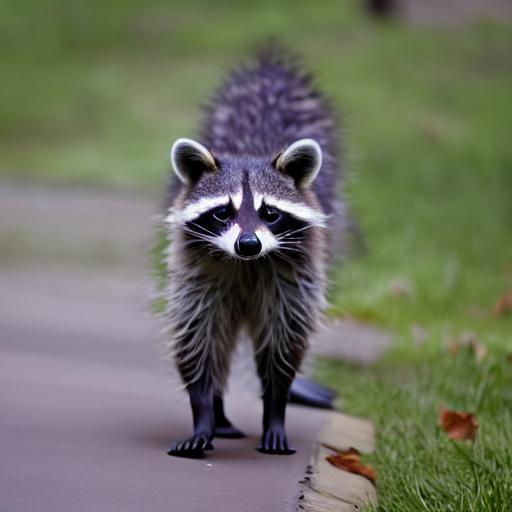raccoon: (149, 126, 337, 388)
